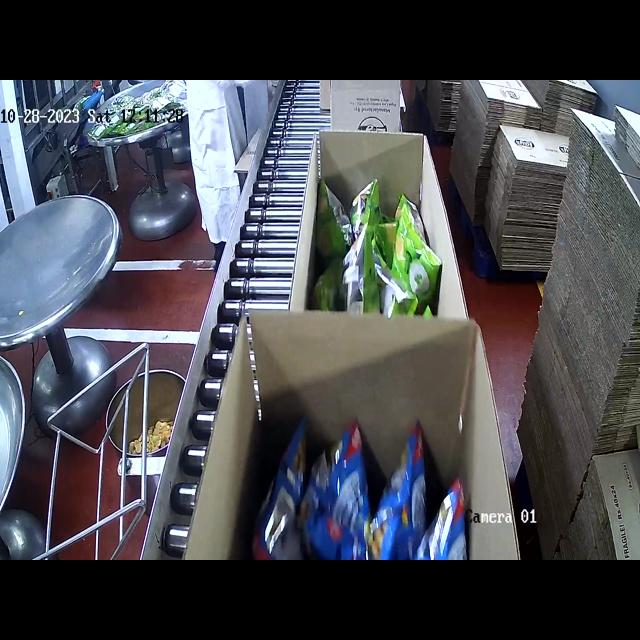paprika: (258, 440, 478, 560)
yogurt: (318, 169, 441, 313)
